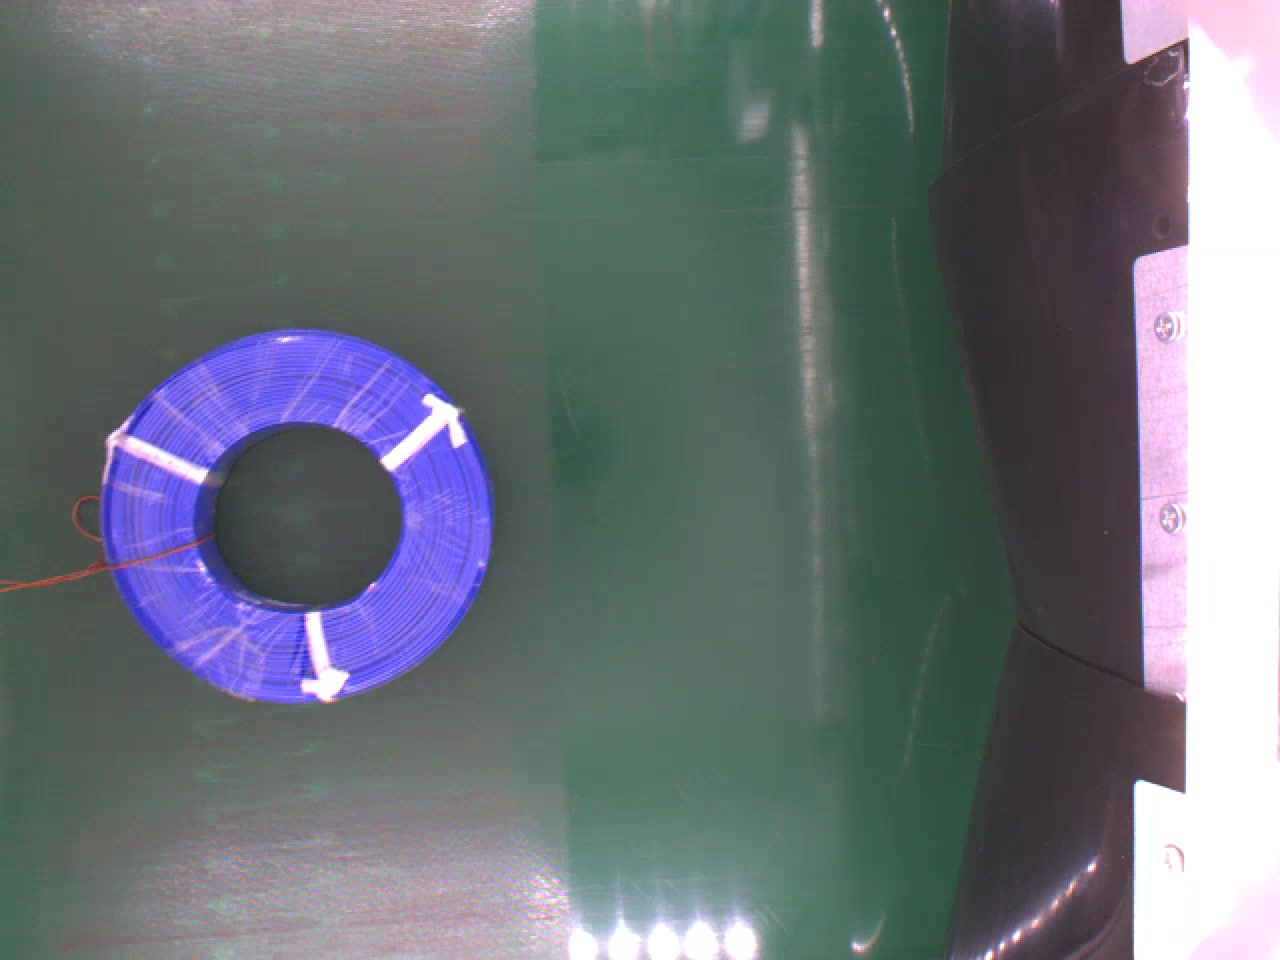blue: (101, 327, 494, 700)
